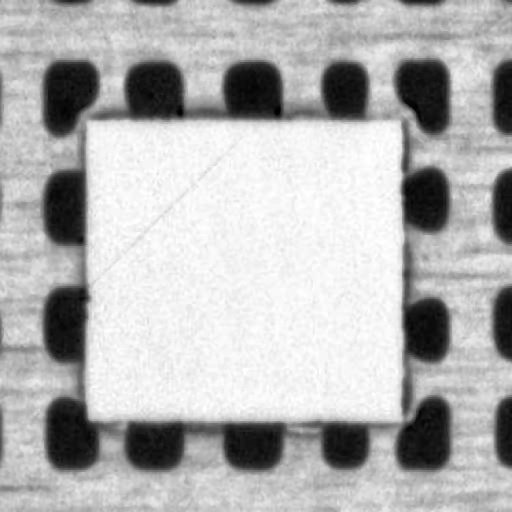DIE_CRACK: (116, 100, 320, 214)
